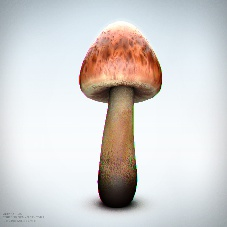mushroom: (77, 19, 165, 212)
